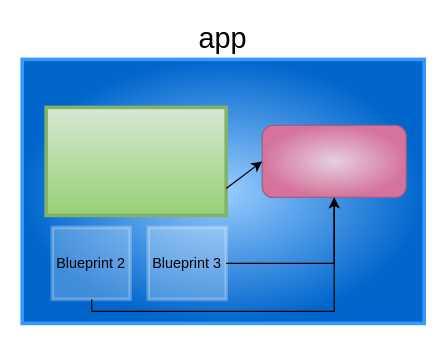
Image size: 446x346. Some labels were removed from this diagram. The centre of each missing label's shape, as x and y in pixels:
main Blueprint: the point at 135,161
models: the point at 333,160
